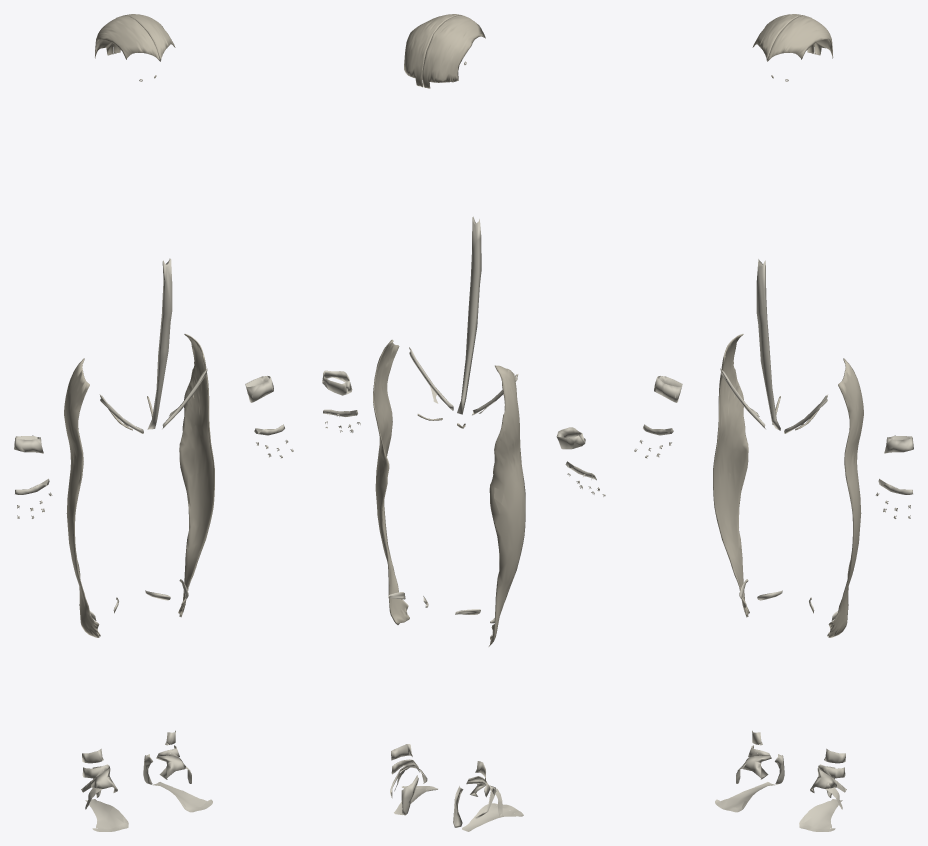
Rendered from adult_male.fascia.LOD3.glb.
3 renders of one model, left to right at view 1: azimuth 30°, elevation 25°; view 2: azimuth 150°, elevation 25°; view 3: azimuth 330°, elevation 25°, orthographic.
Visible parts, largest first — view 1: ADULT.MALE.FASCIA.ILIOTIBIAL_TRACT.L, ADULT.MALE.FASCIA.ILIOTIBIAL_TRACT.R, ADULT.MALE.FASCIA.EPICRANIAL_APONEUROSIS.R, ADULT.MALE.FASCIA.LINEA_ALBA, ADULT.MALE.FASCIA.EPICRANIAL_APONEUROSIS.L, ADULT.MALE.FASCIA.PLANTAR_APONEUROSIS.R; view 2: ADULT.MALE.FASCIA.ILIOTIBIAL_TRACT.R, ADULT.MALE.FASCIA.ILIOTIBIAL_TRACT.L, ADULT.MALE.FASCIA.EPICRANIAL_APONEUROSIS.R, ADULT.MALE.FASCIA.LINEA_ALBA, ADULT.MALE.FASCIA.EPICRANIAL_APONEUROSIS.L, ADULT.MALE.FASCIA.PLANTAR_APONEUROSIS.R; view 3: ADULT.MALE.FASCIA.ILIOTIBIAL_TRACT.R, ADULT.MALE.FASCIA.ILIOTIBIAL_TRACT.L, ADULT.MALE.FASCIA.EPICRANIAL_APONEUROSIS.L, ADULT.MALE.FASCIA.LINEA_ALBA, ADULT.MALE.FASCIA.EPICRANIAL_APONEUROSIS.R, ADULT.MALE.FASCIA.PLANTAR_APONEUROSIS.L.
Part boxes in pixels (x1,y1,x2,y2): ADULT.MALE.FASCIA.ILIOTIBIAL_TRACT.L: (178,334,214,617); ADULT.MALE.FASCIA.ILIOTIBIAL_TRACT.R: (64,358,100,637); ADULT.MALE.FASCIA.EPICRANIAL_APONEUROSIS.R: (94,15,160,61); ADULT.MALE.FASCIA.LINEA_ALBA: (147,258,172,429); ADULT.MALE.FASCIA.EPICRANIAL_APONEUROSIS.L: (113,14,175,61); ADULT.MALE.FASCIA.PLANTAR_APONEUROSIS.R: (85,799,128,828); ADULT.MALE.FASCIA.ILIOTIBIAL_TRACT.R: (488,365,525,646); ADULT.MALE.FASCIA.ILIOTIBIAL_TRACT.L: (373,339,409,624); ADULT.MALE.FASCIA.EPICRANIAL_APONEUROSIS.R: (422,15,485,88); ADULT.MALE.FASCIA.LINEA_ALBA: (457,216,481,414); ADULT.MALE.FASCIA.EPICRANIAL_APONEUROSIS.L: (404,14,460,87); ADULT.MALE.FASCIA.PLANTAR_APONEUROSIS.R: (462,803,517,831); ADULT.MALE.FASCIA.ILIOTIBIAL_TRACT.R: (713,334,749,617); ADULT.MALE.FASCIA.ILIOTIBIAL_TRACT.L: (827,358,863,637); ADULT.MALE.FASCIA.EPICRANIAL_APONEUROSIS.L: (767,15,833,61); ADULT.MALE.FASCIA.LINEA_ALBA: (756,259,780,430); ADULT.MALE.FASCIA.EPICRANIAL_APONEUROSIS.R: (752,14,814,61); ADULT.MALE.FASCIA.PLANTAR_APONEUROSIS.L: (799,799,842,828).
Bounding box in the file's own units: 0.6282 × 1.7 × 0.2194.
